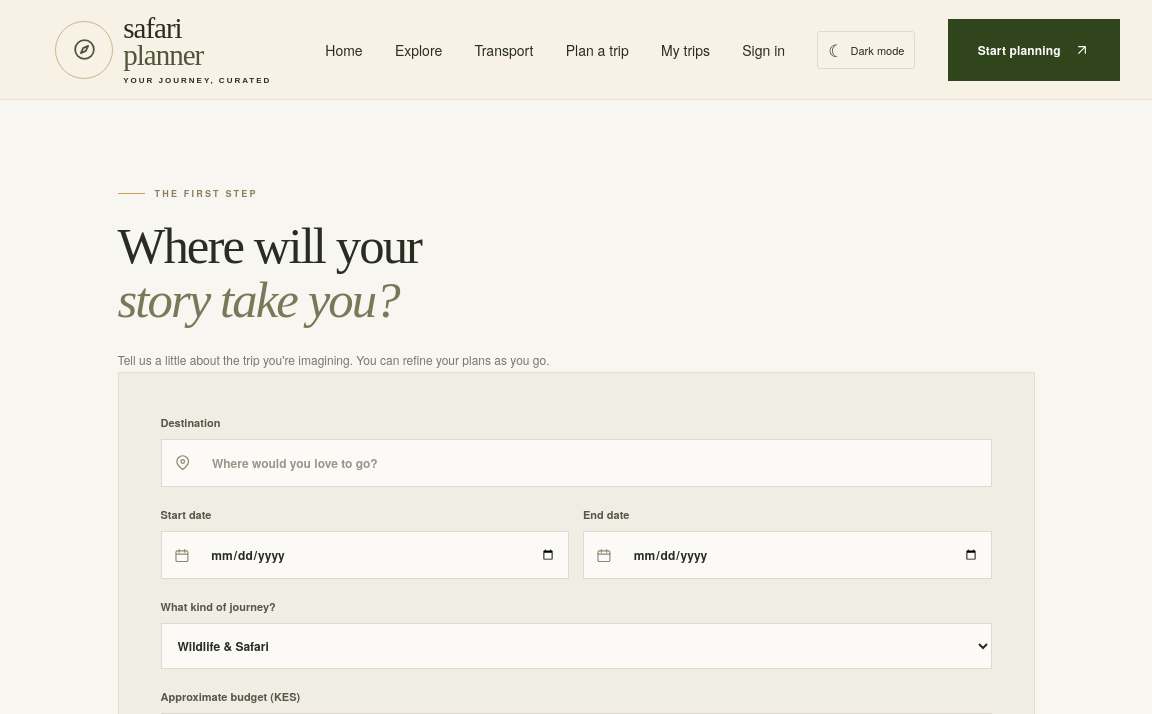
Test: App trip planning › saves guest preferences and sends the guest token to generate an itinerary
The width and height of the screenshot is (1152, 714).
In the field labelled "Destination": (595, 463) [200,440,990,486], type "Maasai Mara"
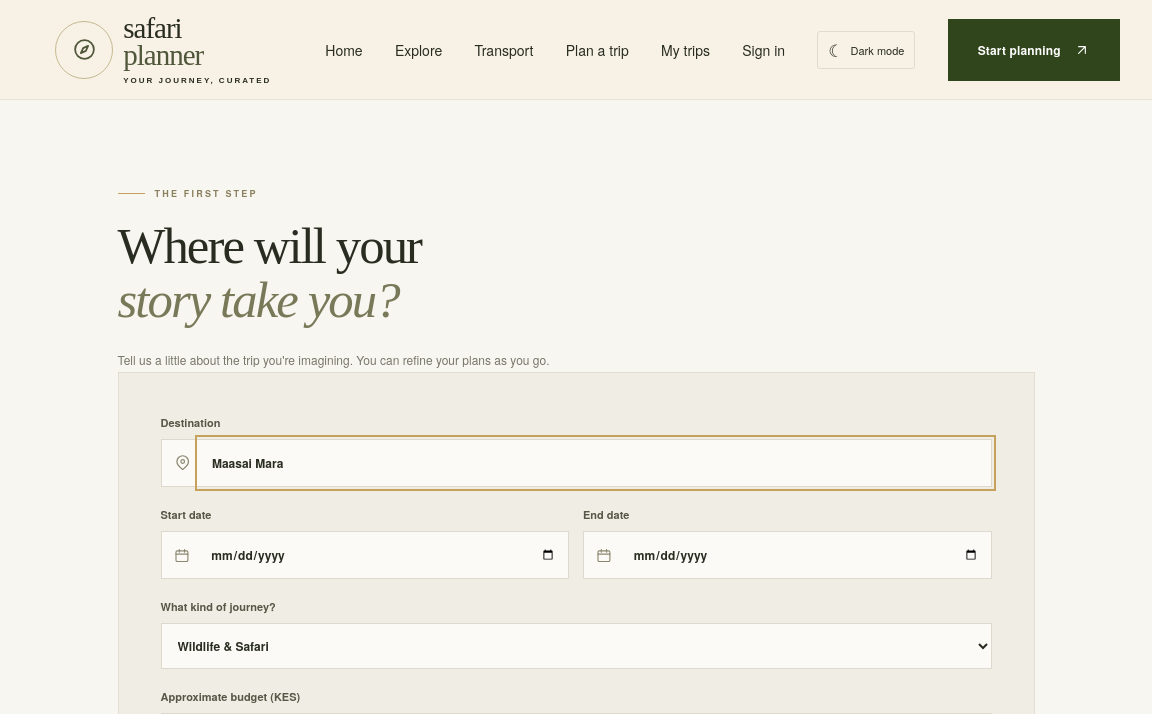
In the date field labelled "Start date": (383, 555) [198,532,568,578], type "2030-06-10"
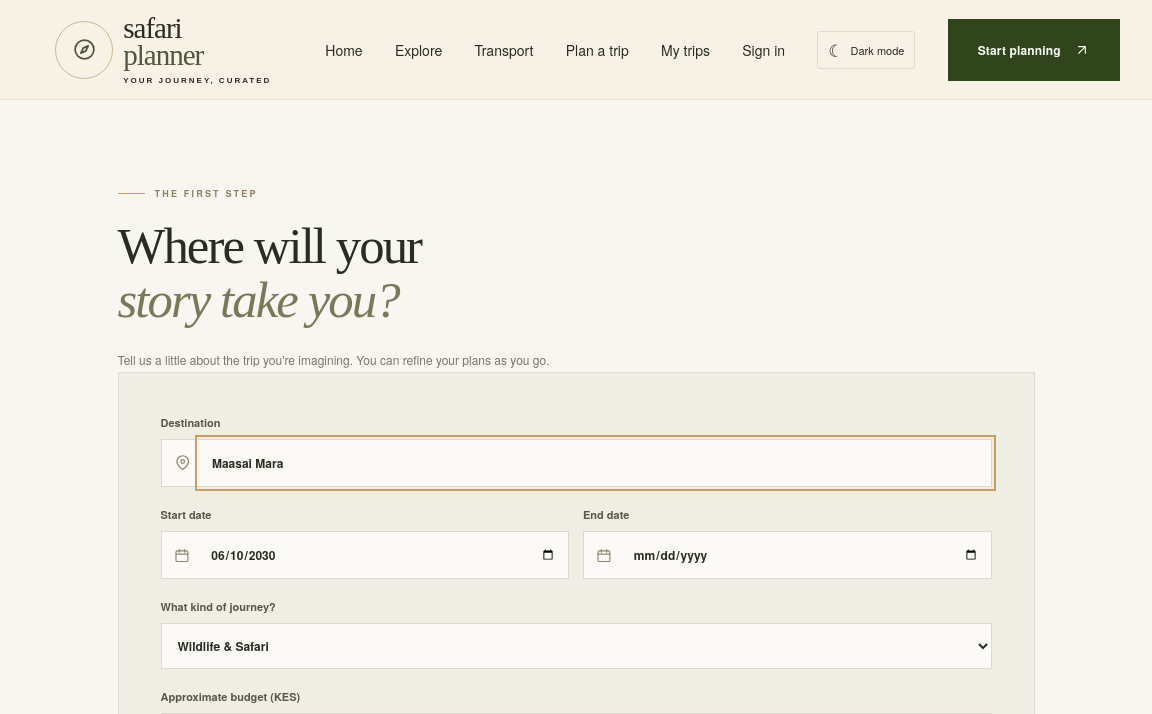
In the date field labelled "End date": (806, 555) [621,532,990,578], type "2030-06-14"
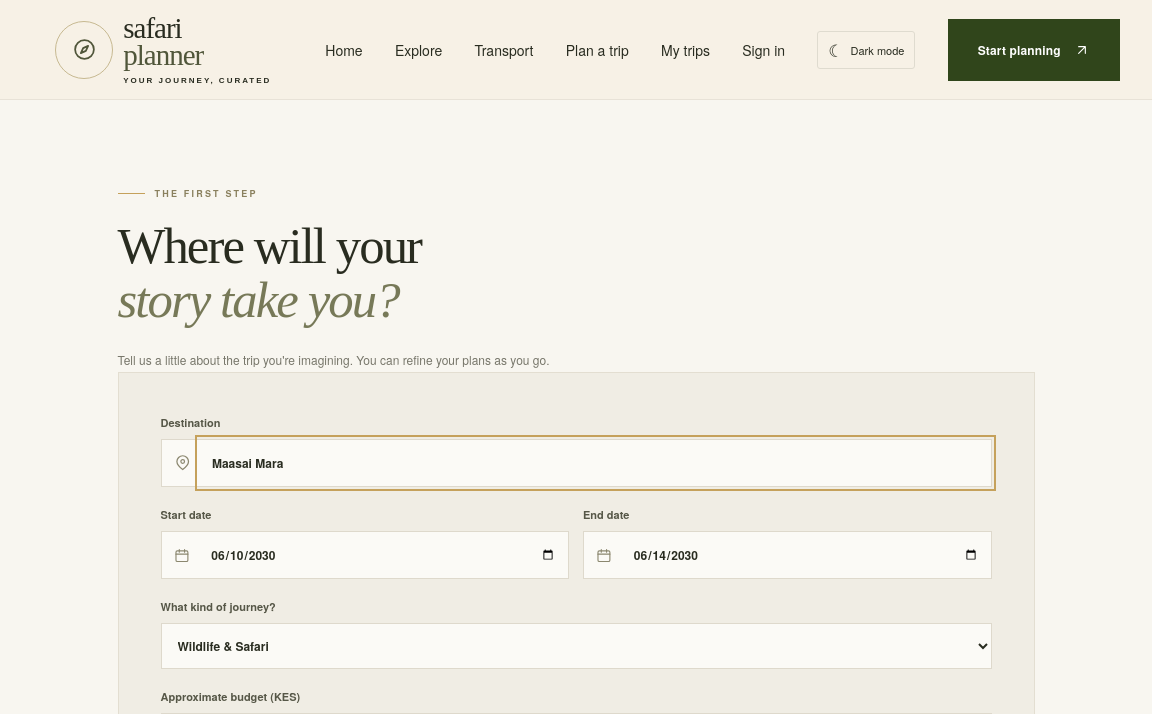
Select "Wildlife & Safari" in the dropdown labelled "What kind of journey?": (576, 646) [160,623,992,669]
(page scrolled)
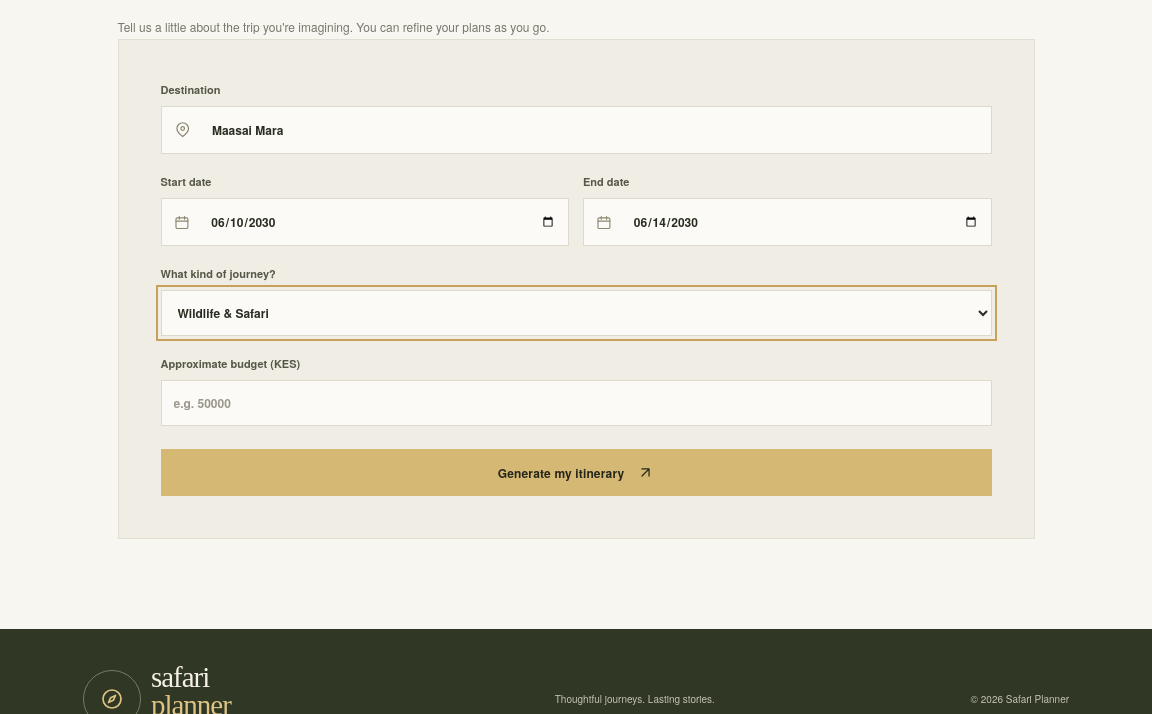
In the number field labelled "Approximate budget (KES)": (576, 403) [160,380,992,426], type "50000"
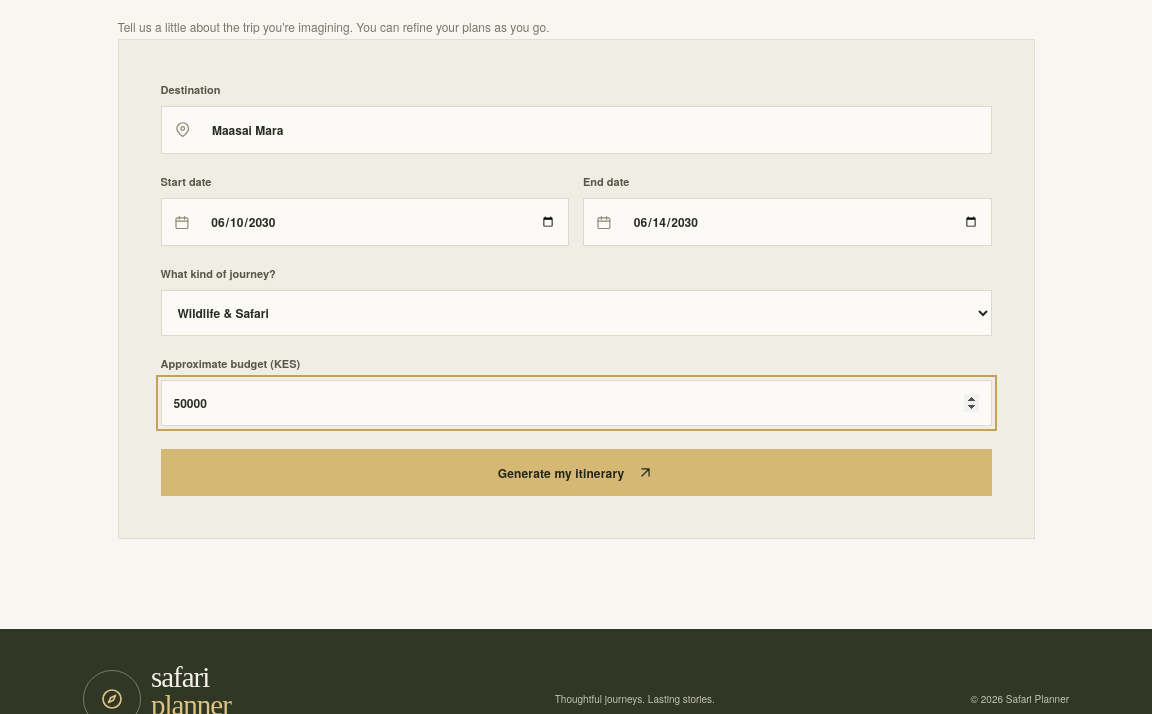
Click the button "Generate my itinerary": (576, 473) [160,449,992,496]
(page scrolled)
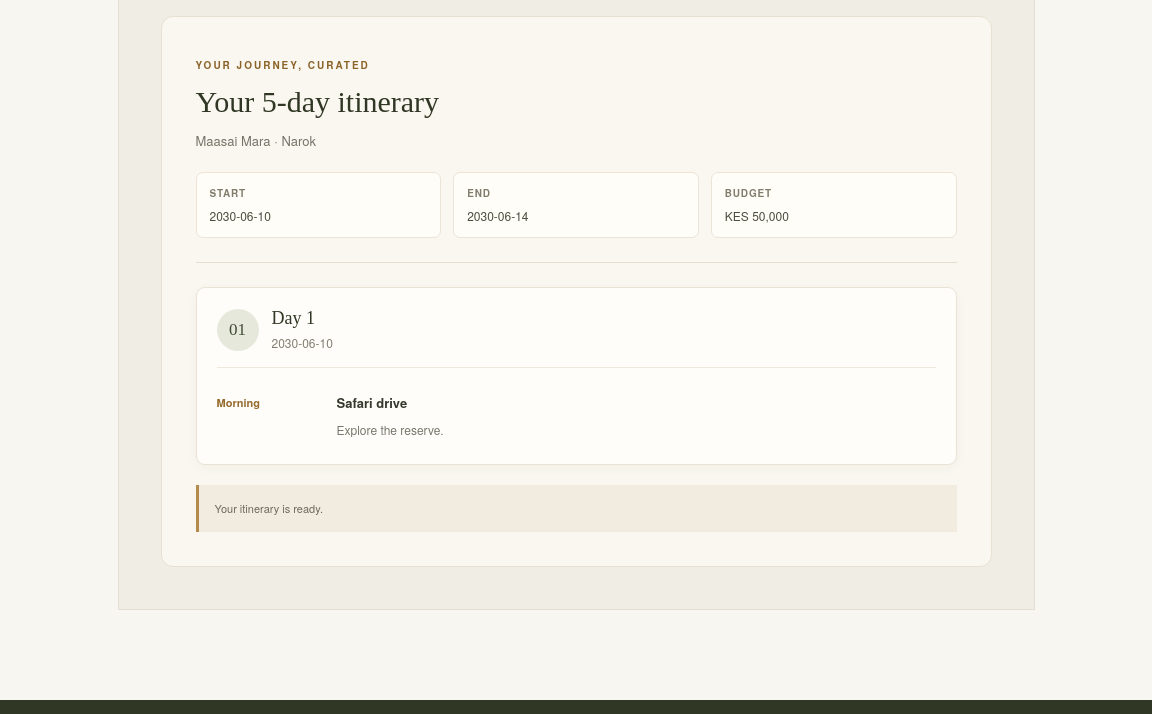
Expected: the heading "Your 5-day itinerary" is shown, [196,85,439,118]
Expected: the heading "Safari drive" is shown, [336,393,407,412]
